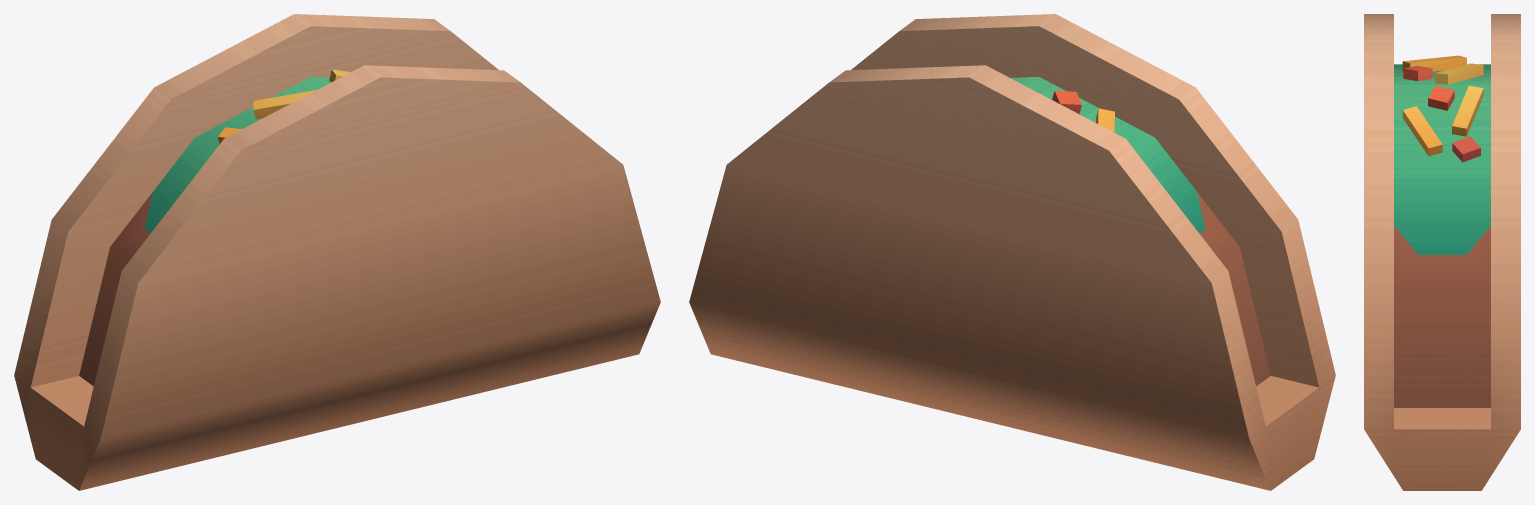
The model's file is taco.glb.
3 views of the same model, side by side, from view 1: azimuth 30°, elevation 25°; view 2: azimuth 150°, elevation 25°; view 3: azimuth 270°, elevation 25° (orthographic). The views are drawn at different scales.
Parts seen in each view (by area): view 1: taco; view 2: taco; view 3: taco.
Boxes of the visible parts, x1,y1,x2,y2 form: taco: [14, 14, 660, 490]; taco: [689, 14, 1335, 490]; taco: [1364, 14, 1520, 490].
Size of the model in its own units: 0.4256 by 0.2622 by 0.114.
1 material, 1 textured.
